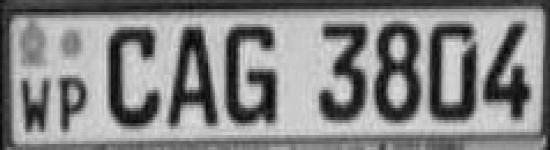0: (425, 14, 482, 129)
3: (320, 16, 370, 124)
4: (482, 13, 538, 129)
8: (372, 16, 424, 128)
A: (165, 22, 223, 132)
C: (98, 22, 166, 135)
G: (224, 23, 286, 136)
P: (56, 69, 90, 135)
W: (14, 67, 55, 137)
